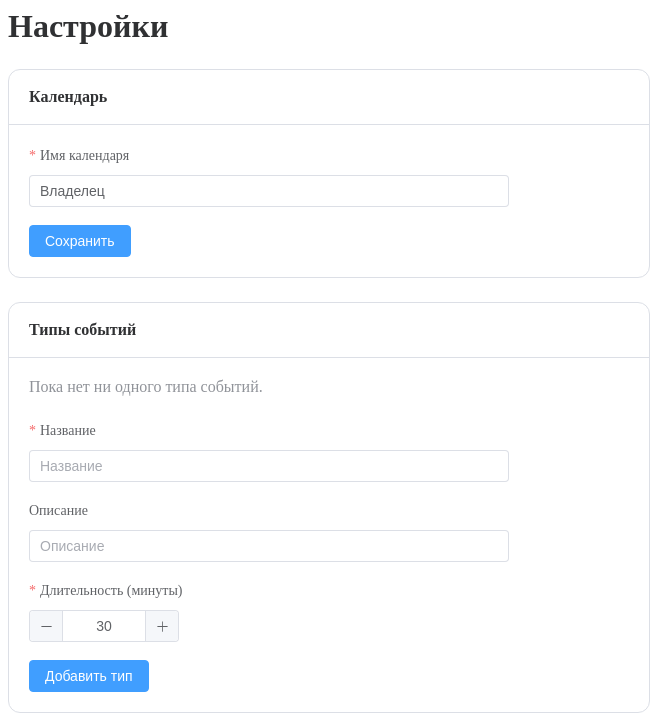
Test: AdminPage › adds an event type from the form and refreshes the list
Type "Встреча 15 минут" into the field with placeholder "Название" at (269, 466), box top-left (40, 451), bottom-right (498, 481)
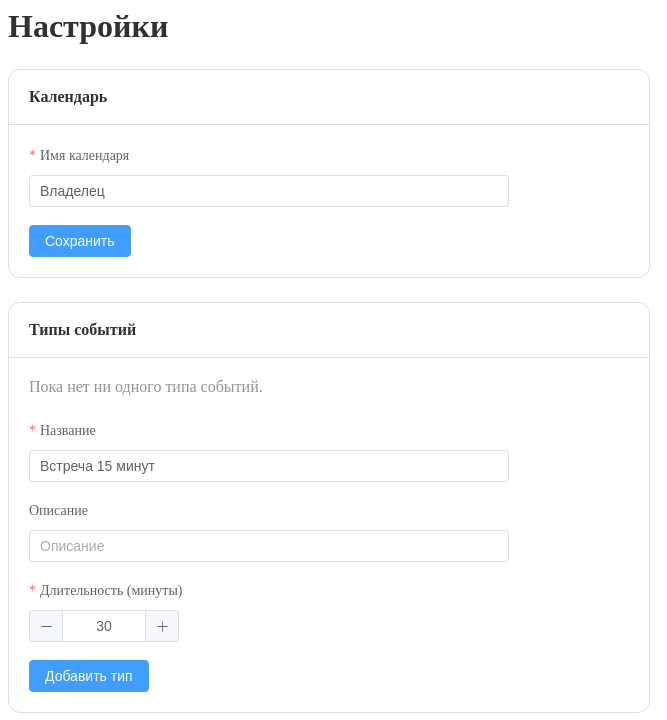
Type "Короткий тип события для быстрого слота." into the field with placeholder "Описание" at (269, 546), box top-left (40, 531), bottom-right (498, 561)
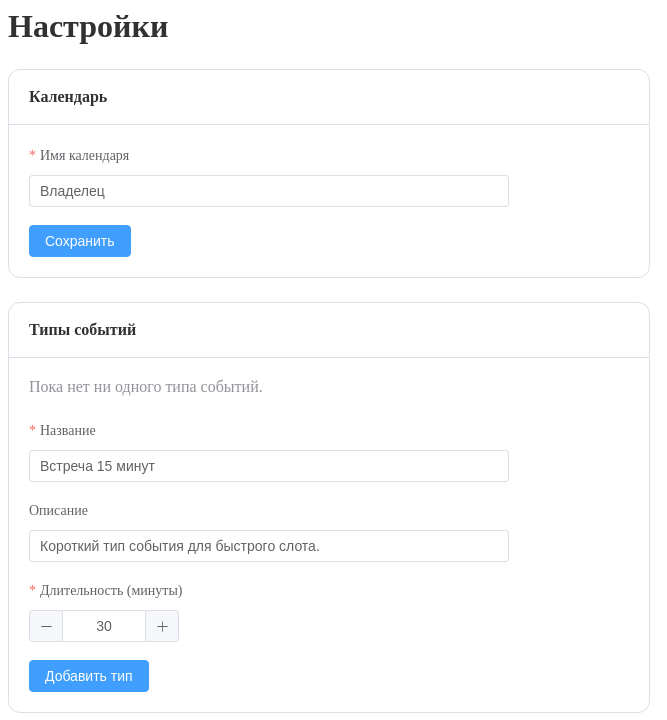
Replace the text in the number field labelled "Длительность (минуты)" with "15" at (104, 626), box top-left (71, 611), bottom-right (137, 641)
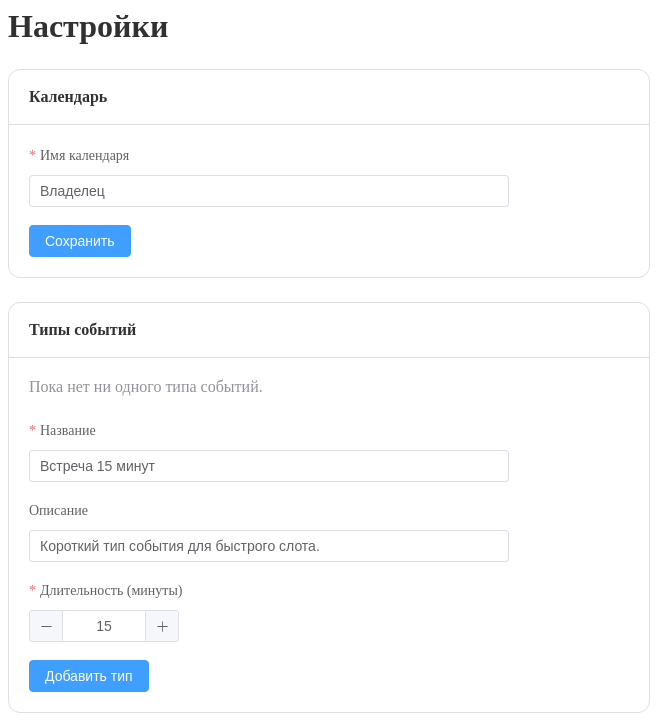
Submit the form with class "form--types", box top-left (29, 420), bottom-right (509, 692)
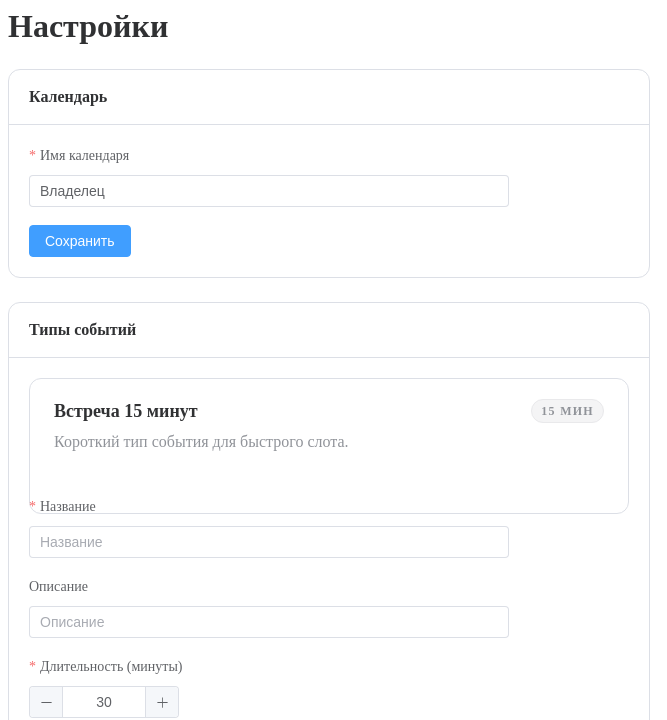
Check: the text "Встреча 15 минут" is shown, box top-left (54, 400), bottom-right (198, 422)
